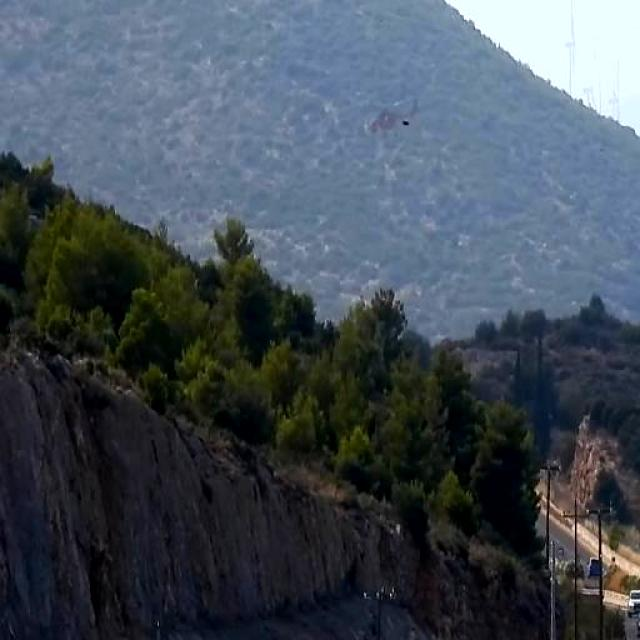drone: (361, 92, 438, 142)
